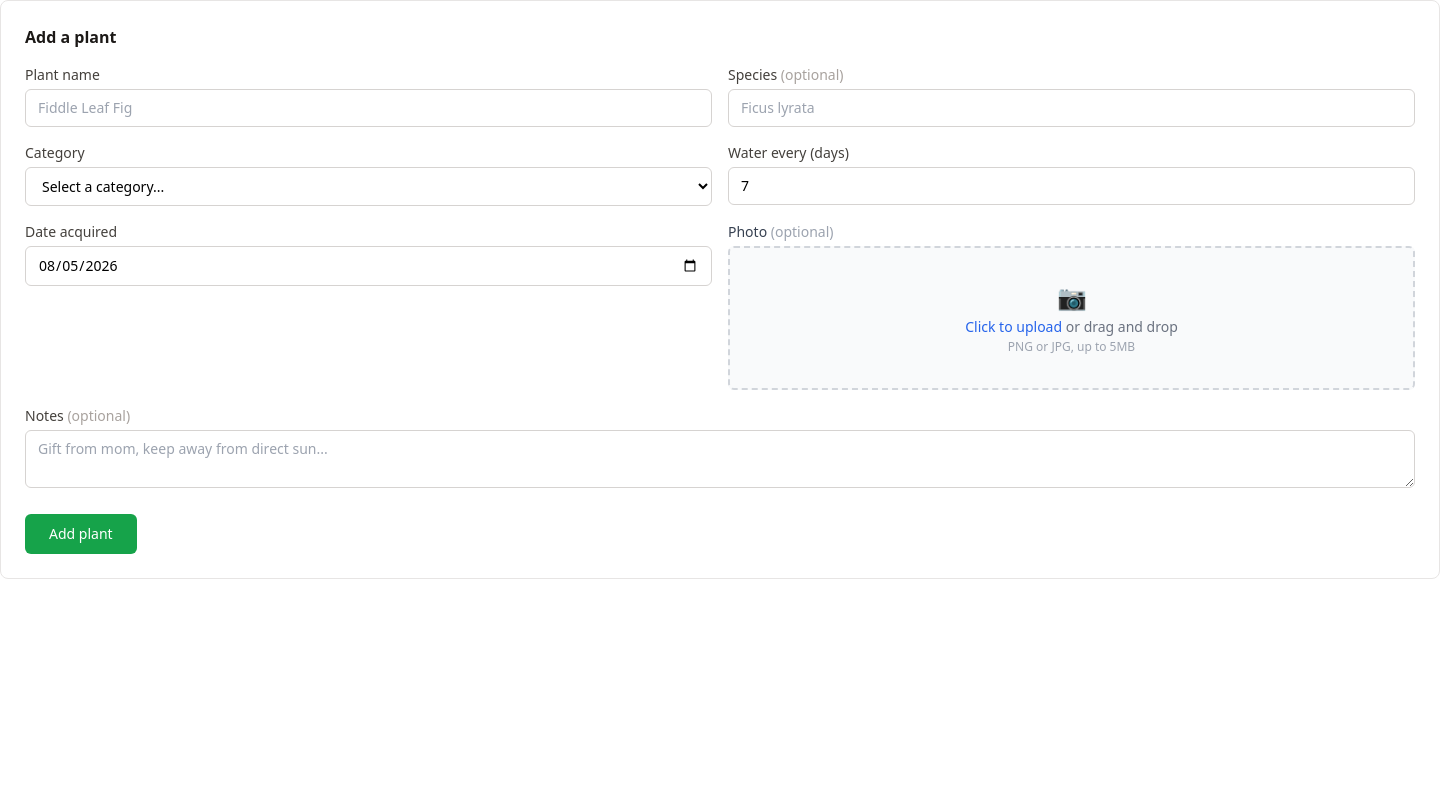
Test: PlantForm › shows a validation error when no category is selected
Type "Snake Plant" into the field with placeholder "Fiddle Leaf Fig" at (368, 108), box [25,89,712,127]
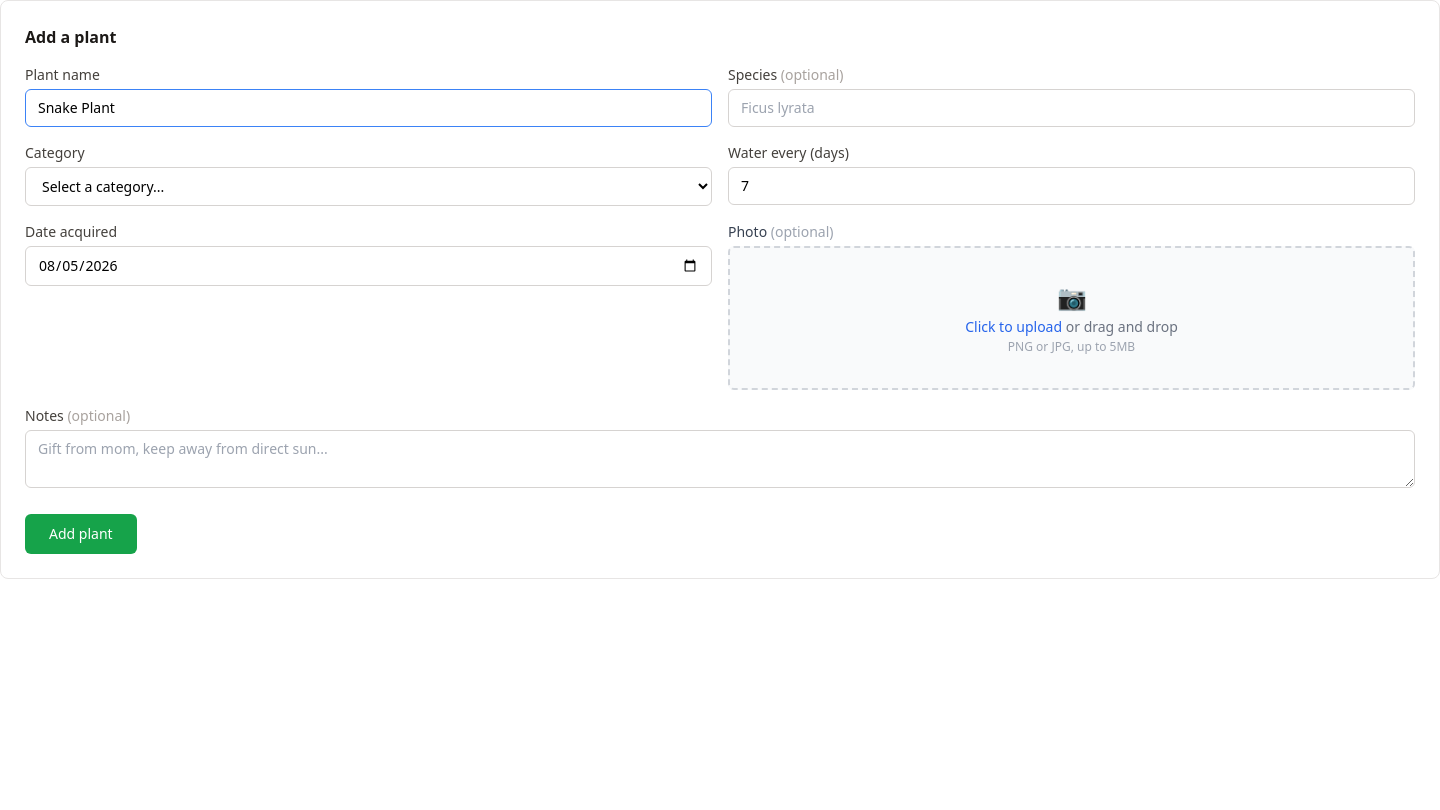
Click the button "Add plant" at (81, 534), box [25,514,137,554]
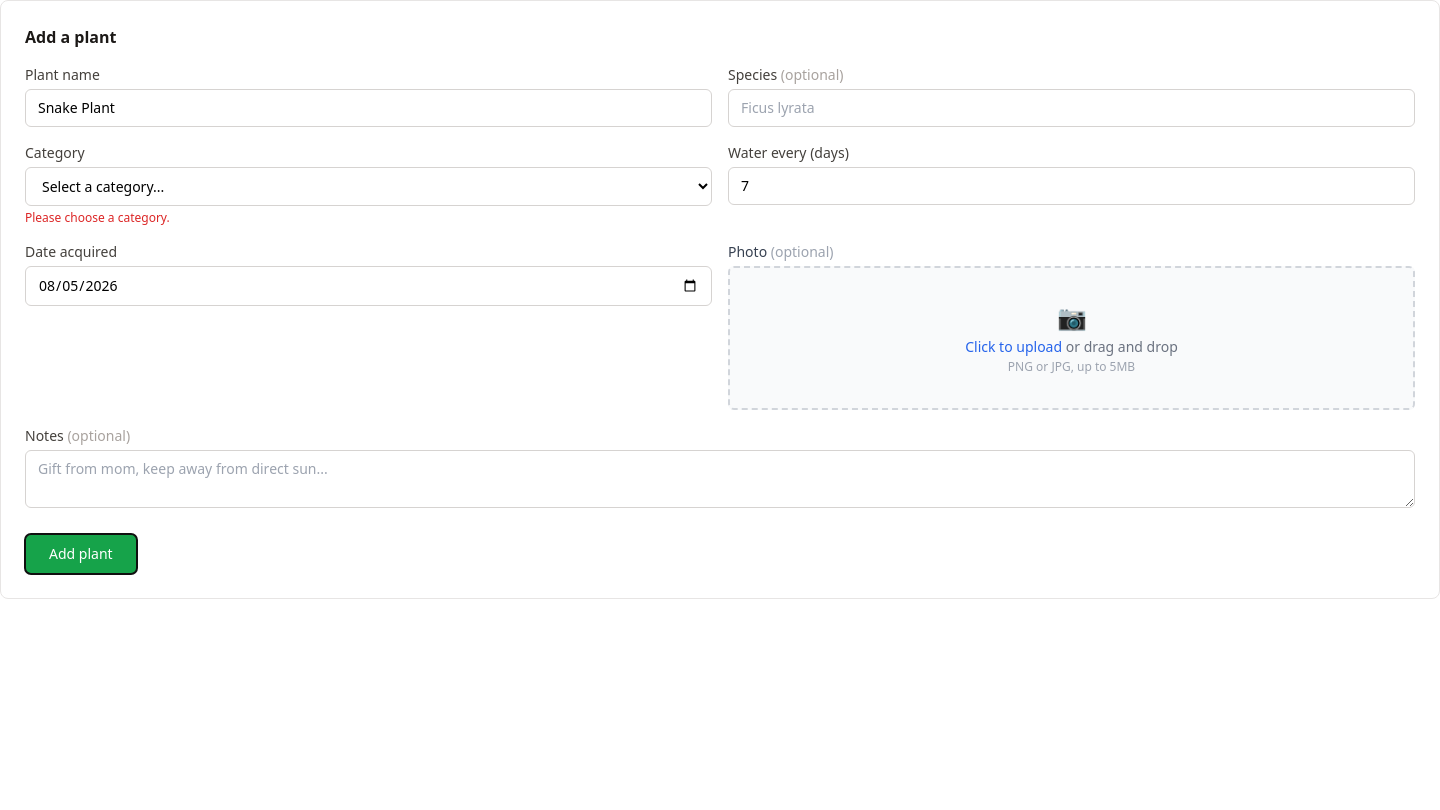
Expected: the text "Please choose a category." is shown, [25,209,170,226]
